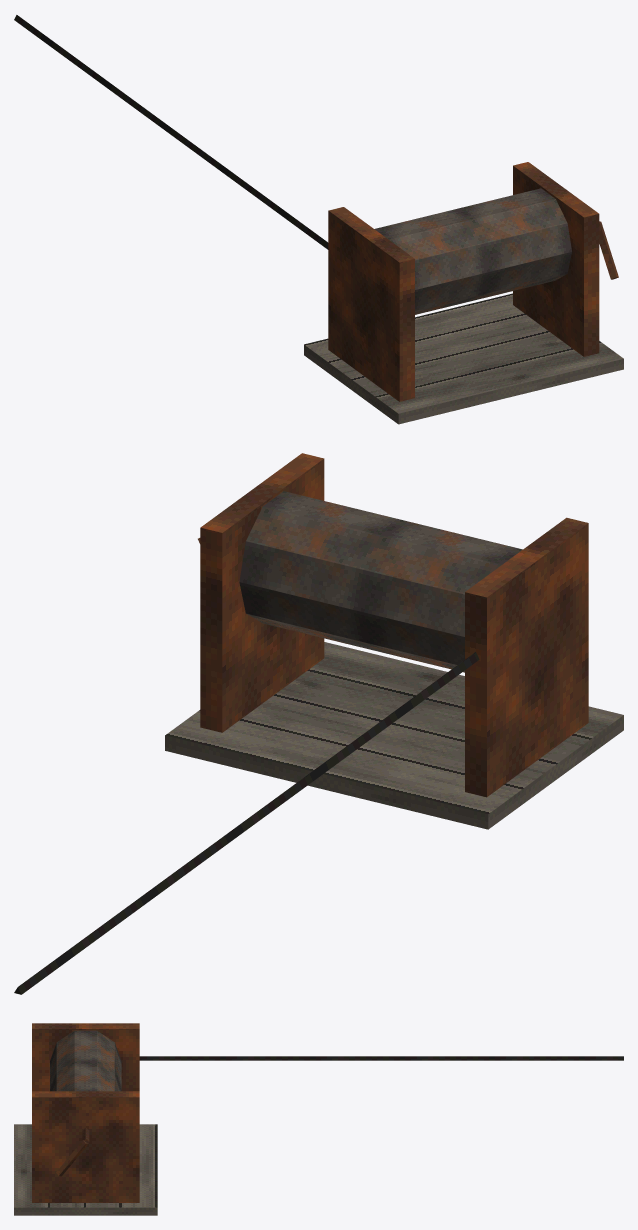
File: torno.obj
3 views of the same model, one above another, from view 1: azimuth 30°, elevation 25°; view 2: azimuth 150°, elevation 25°; view 3: azimuth 270°, elevation 25° (orthographic). The views are drawn at different scales.
Visible parts, largest first — view 1: torno; view 2: torno; view 3: torno.
Part boxes in pixels (bbox=[...]): torno: bbox=[14, 15, 623, 424]; torno: bbox=[14, 453, 623, 994]; torno: bbox=[14, 1023, 623, 1215].
Size of the model in its own units: 2.44 by 1.4 by 6.8.
4 materials, 4 textured.
